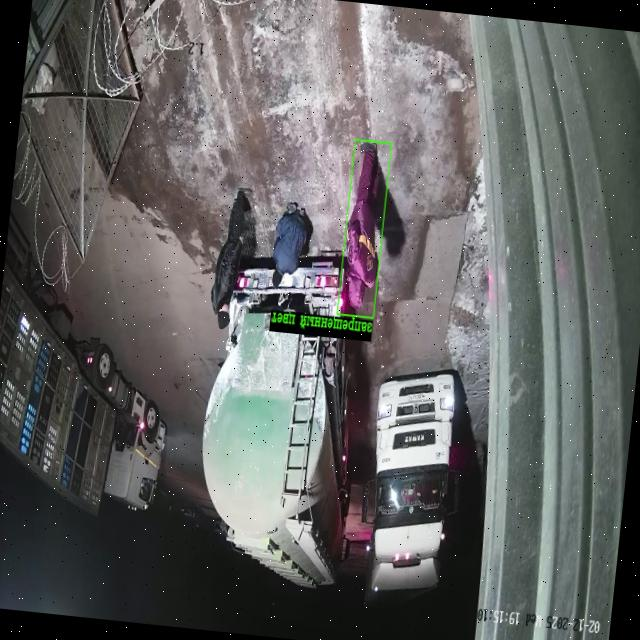Person: (211, 188, 252, 329), (272, 203, 306, 286)
Red uniform: (345, 143, 379, 309)
